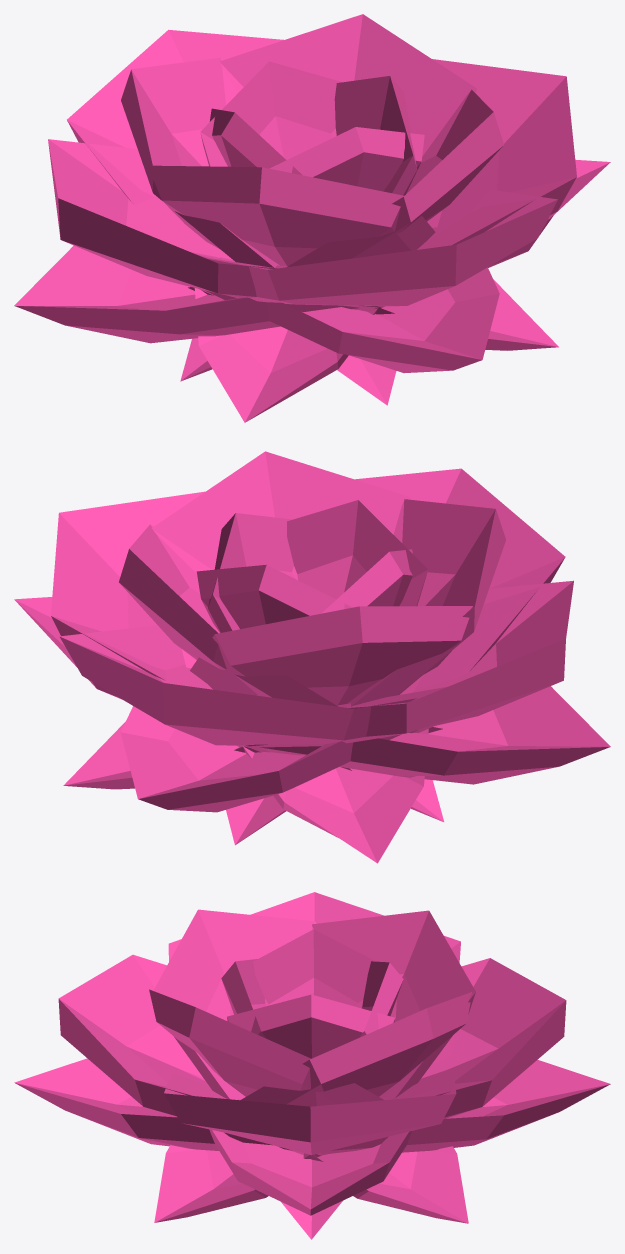
The model's file is Flower.fbx.
The picture shows the model from 3 angles, top to bottom: view 1: azimuth 30°, elevation 25°; view 2: azimuth 150°, elevation 25°; view 3: azimuth 270°, elevation 25°; orthographic projection. The views are drawn at different scales.
Visible parts, largest first — view 1: pCube22.025; view 2: pCube22.025; view 3: pCube22.025.
Part boxes in pixels (box(x1,y1,x2,y2)): pCube22.025: box(14, 14, 610, 422); pCube22.025: box(14, 451, 610, 863); pCube22.025: box(14, 892, 610, 1239).
Size of the model in its own units: 22.28 by 9.28 by 22.28.
